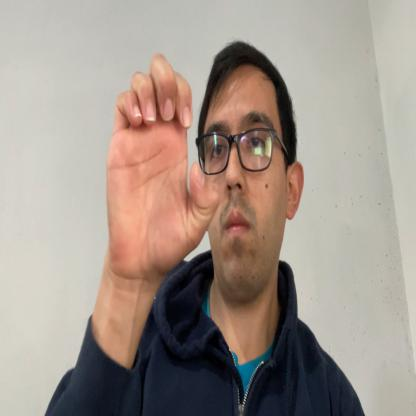E: (105, 50, 219, 278)
